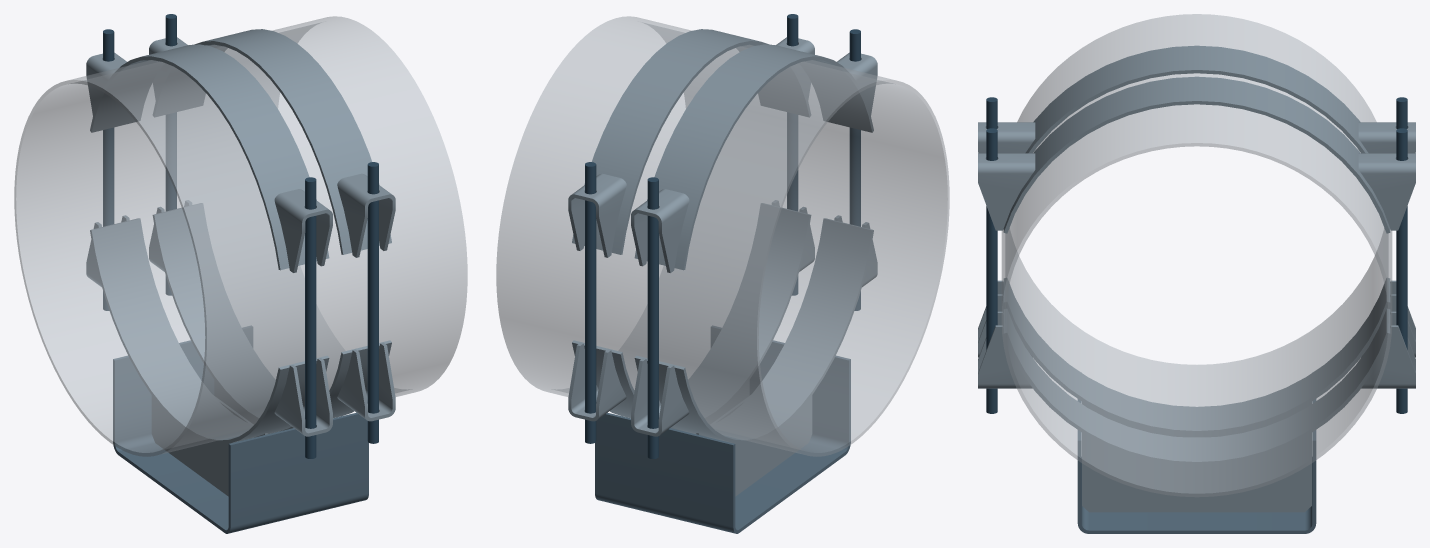
The model's file is TS-627.00.000-034-opora-dn820-H150-L340.glb.
The picture shows the model from 3 angles, left to right: view 1: azimuth 30°, elevation 25°; view 2: azimuth 150°, elevation 25°; view 3: azimuth 270°, elevation 25°; orthographic projection.
Parts seen in each view (by area): view 1: truba, skoba_0, podushka_4, bugel0_podushka_0, podushka_5, bugel1_podushka_0, shpilka_0_-1, shpilka_1_-1, rebro4_1, bugel0_ushko_2, bugel1_ushko_2, ushko_7 (+5 smaller); view 2: truba, skoba_0, podushka_4, bugel0_podushka_0, podushka_5, bugel1_podushka_0, shpilka_0_1, shpilka_1_1, rebro4_1, bugel0_ushko_1, bugel1_ushko_1, ushko_6 (+5 smaller); view 3: truba, rebro4_2, podushka_5, podushka_4, bugel1_podushka_0, bugel0_podushka_0, skoba_0, bugel1_ushko_1, bugel1_ushko_2, ushko_8, ushko_9, shpilka_1_1 (+6 smaller).
Boxes of the visible parts, x1,y1,x2,y2 form: truba: [14, 16, 467, 456]; skoba_0: [113, 326, 368, 533]; podushka_4: [90, 218, 329, 443]; bugel0_podushka_0: [90, 44, 329, 270]; podushka_5: [152, 203, 391, 428]; bugel1_podushka_0: [153, 29, 391, 254]; shpilka_0_-1: [305, 177, 316, 458]; shpilka_1_-1: [367, 162, 378, 443]; rebro4_1: [151, 395, 267, 496]; bugel0_ushko_2: [274, 189, 332, 272]; bugel1_ushko_2: [337, 173, 395, 257]; ushko_7: [274, 358, 332, 436]; truba: [496, 16, 949, 456]; skoba_0: [595, 326, 850, 533]; podushka_4: [634, 218, 873, 443]; bugel0_podushka_0: [634, 44, 873, 270]; podushka_5: [572, 203, 811, 428]; bugel1_podushka_0: [572, 29, 810, 254]; shpilka_0_1: [647, 177, 658, 458]; shpilka_1_1: [585, 162, 596, 443]; rebro4_1: [696, 395, 812, 496]; bugel0_ushko_1: [631, 189, 689, 272]; bugel1_ushko_1: [568, 173, 626, 257]; ushko_6: [631, 358, 689, 436]; truba: [1001, 14, 1392, 497]; rebro4_2: [1082, 433, 1311, 512]; podushka_5: [1003, 308, 1390, 465]; podushka_4: [1003, 278, 1390, 434]; bugel1_podushka_0: [1003, 76, 1390, 233]; bugel0_podushka_0: [1025, 45, 1368, 153]; skoba_0: [1077, 399, 1316, 533]; bugel1_ushko_1: [1358, 153, 1415, 230]; bugel1_ushko_2: [978, 153, 1035, 230]; ushko_8: [1361, 311, 1415, 388]; ushko_9: [978, 311, 1032, 388]; shpilka_1_1: [1396, 128, 1407, 413].
Bounding box in the file's own units: 640 × 987 × 918.
